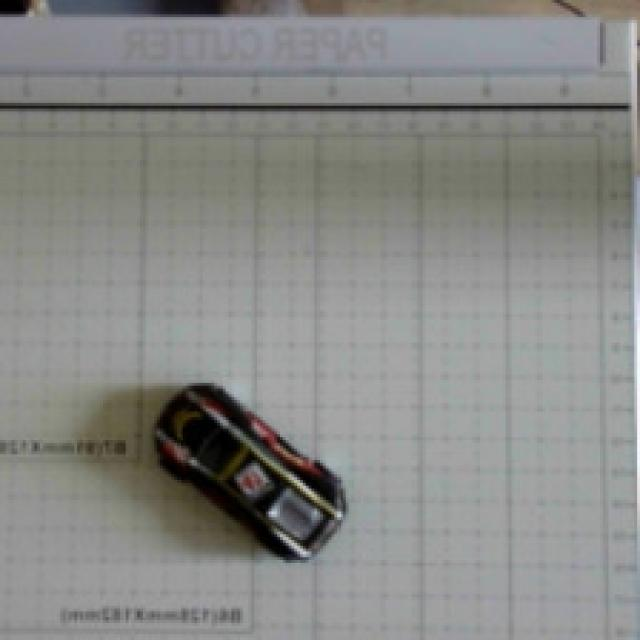Red Car: (123, 345, 395, 573)
